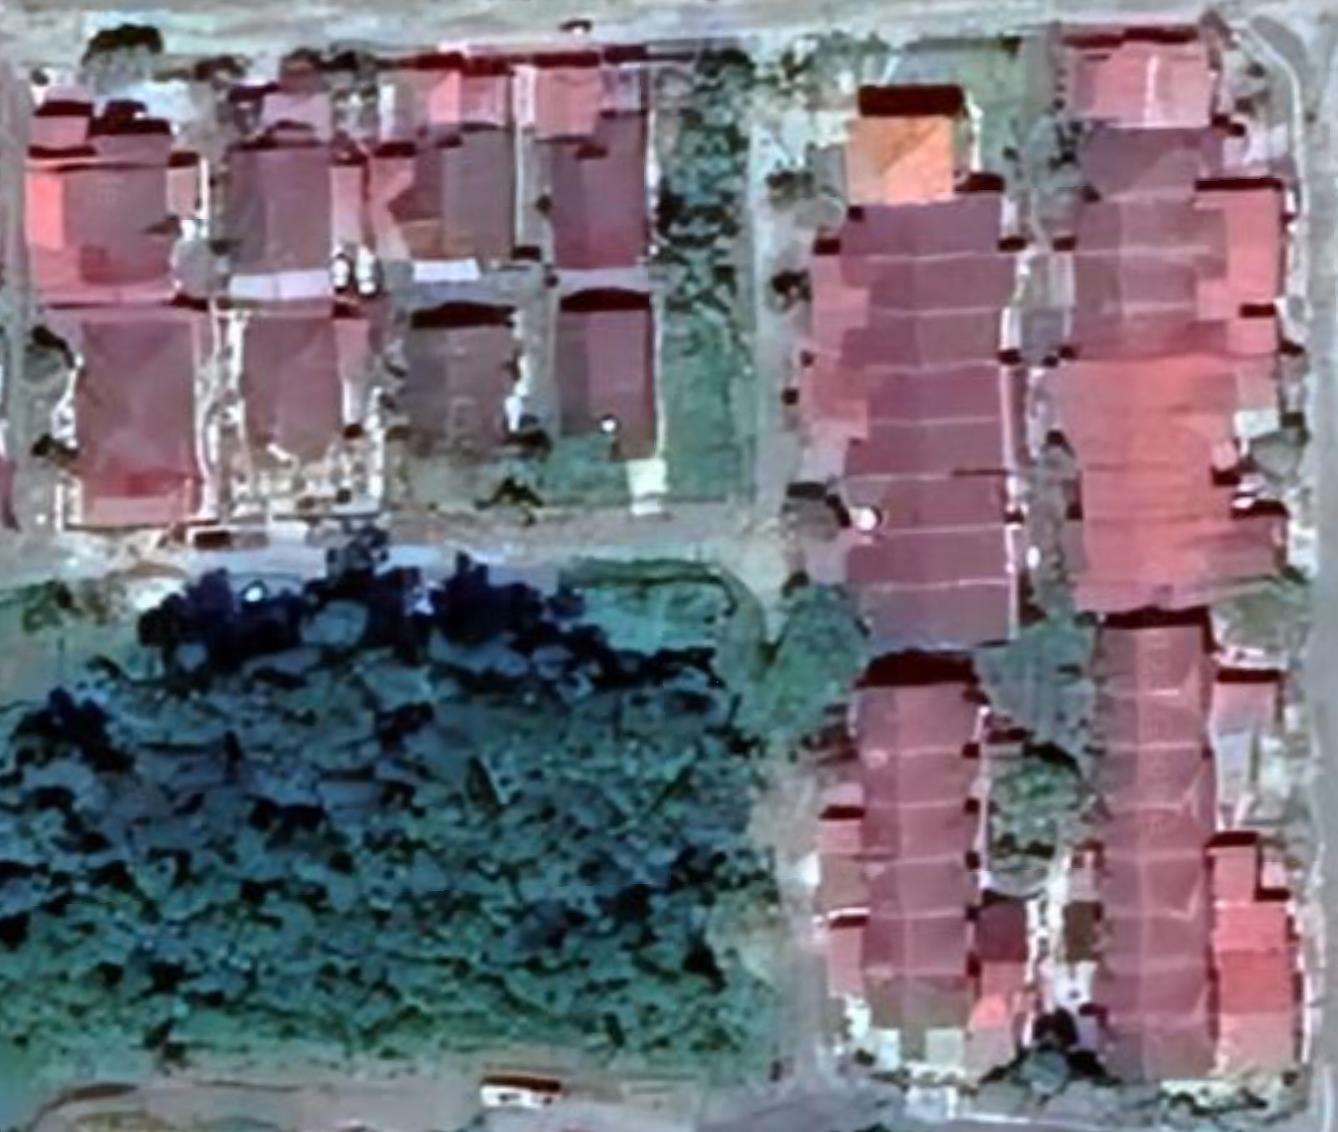building: (11, 88, 211, 312), (16, 312, 224, 526), (199, 75, 370, 305), (373, 51, 525, 277), (827, 103, 1021, 268), (228, 308, 386, 480), (529, 89, 663, 288), (549, 281, 678, 473), (395, 294, 530, 471), (1072, 616, 1292, 712), (831, 676, 1028, 765), (829, 262, 1027, 324), (831, 315, 1007, 382), (816, 371, 1009, 431), (838, 596, 1024, 656), (830, 429, 1014, 489), (840, 538, 1018, 598), (854, 983, 978, 1067), (831, 488, 1016, 538), (847, 759, 995, 817), (852, 811, 983, 872), (854, 926, 974, 985), (849, 871, 974, 926)
